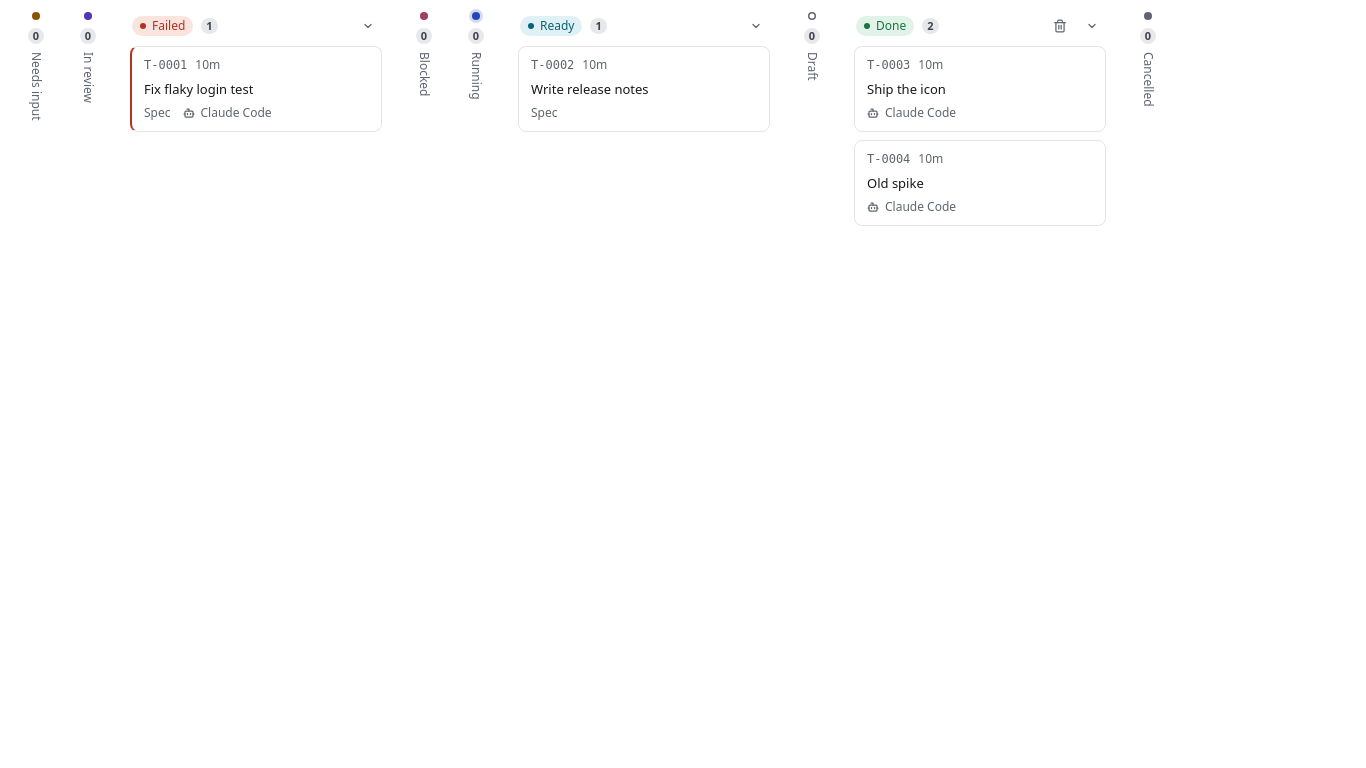
Scenario: TaskBoard › delete all finished tasks › lists the tasks of the column, and deletes them after the confirm
Click the button named "Delete all done tasks" at (1060, 26), box [1048, 14, 1072, 38]
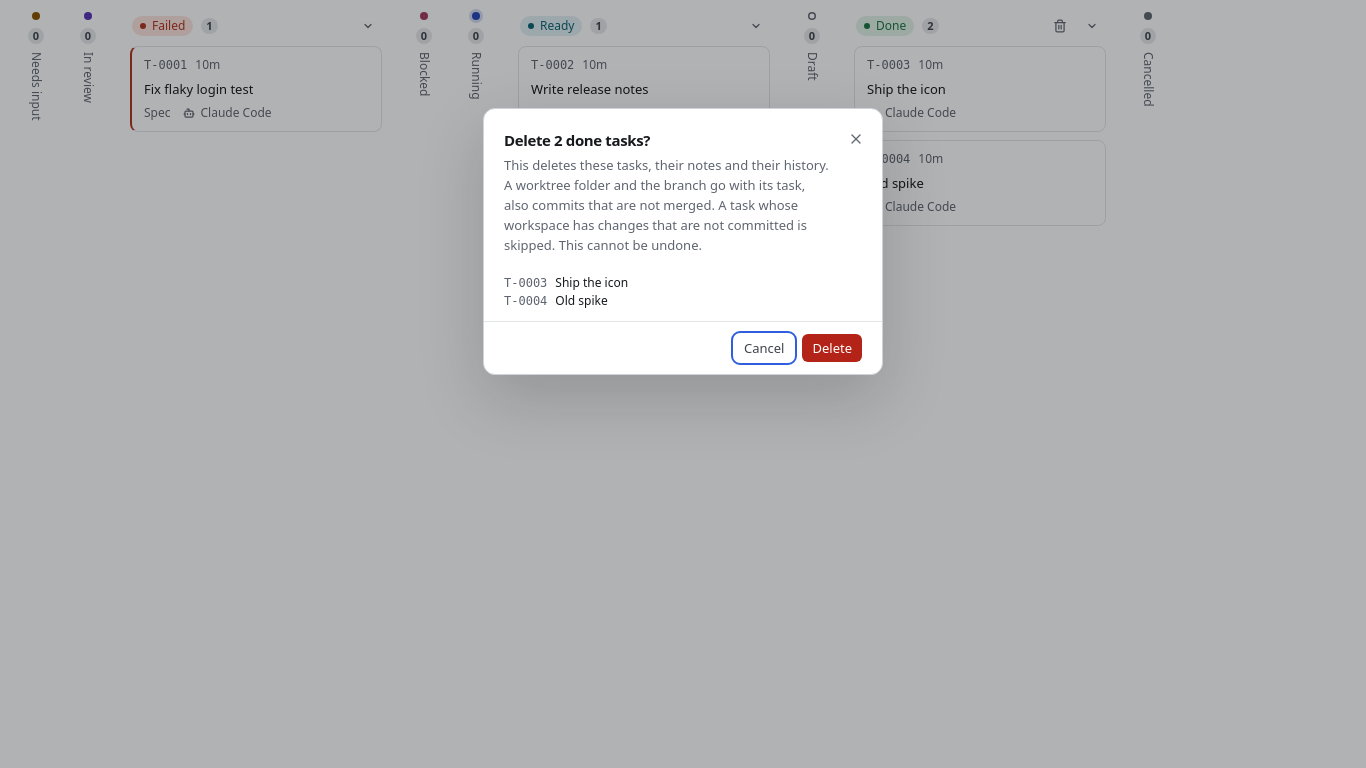
Result: the text "Ship the icon" is shown at [555, 274, 628, 290]
Result: the text "Old spike" is shown at [555, 292, 608, 308]
Click the button "Delete" at (832, 348), box [802, 334, 862, 362]
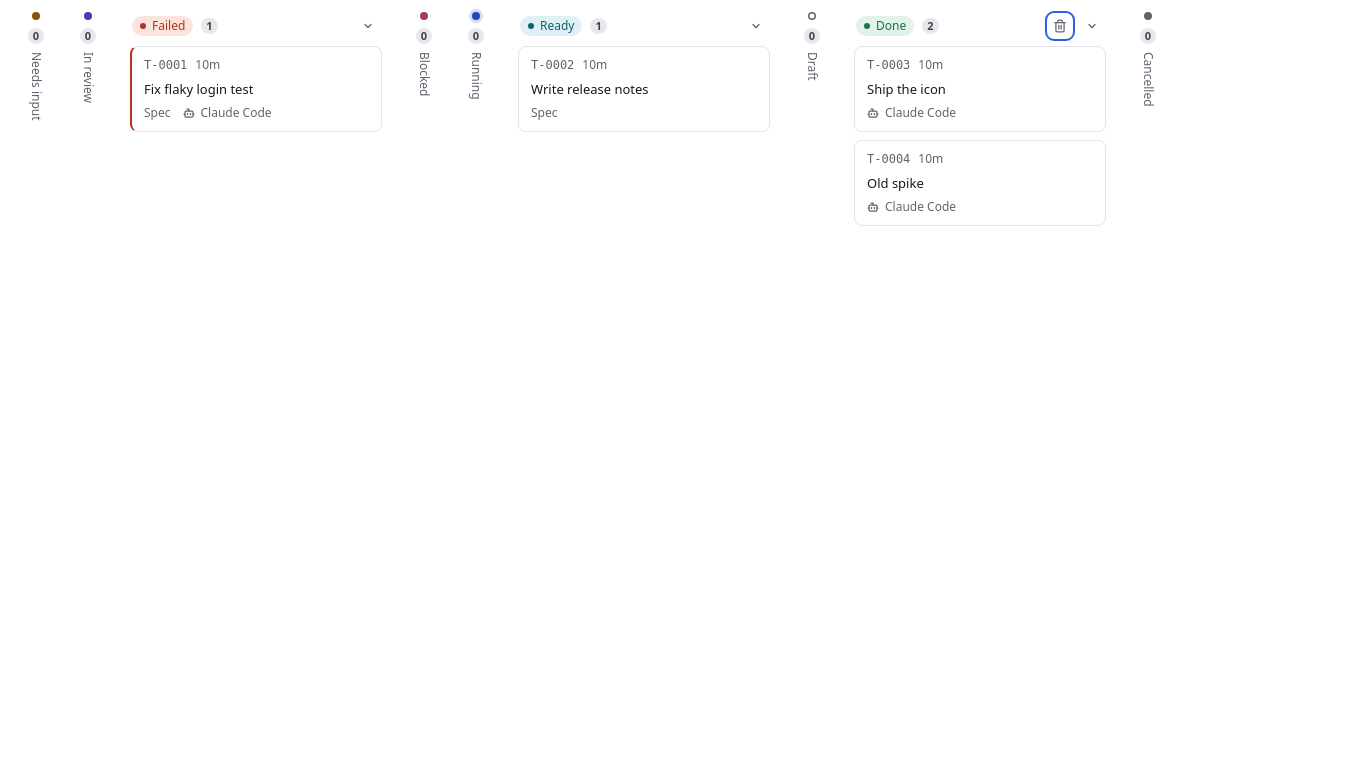
Result: the dialog is gone
